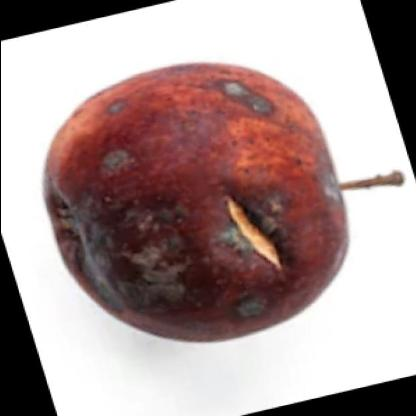defect: (84, 134, 204, 302), (210, 170, 334, 288), (193, 73, 287, 129), (215, 288, 275, 332), (90, 95, 144, 138)
